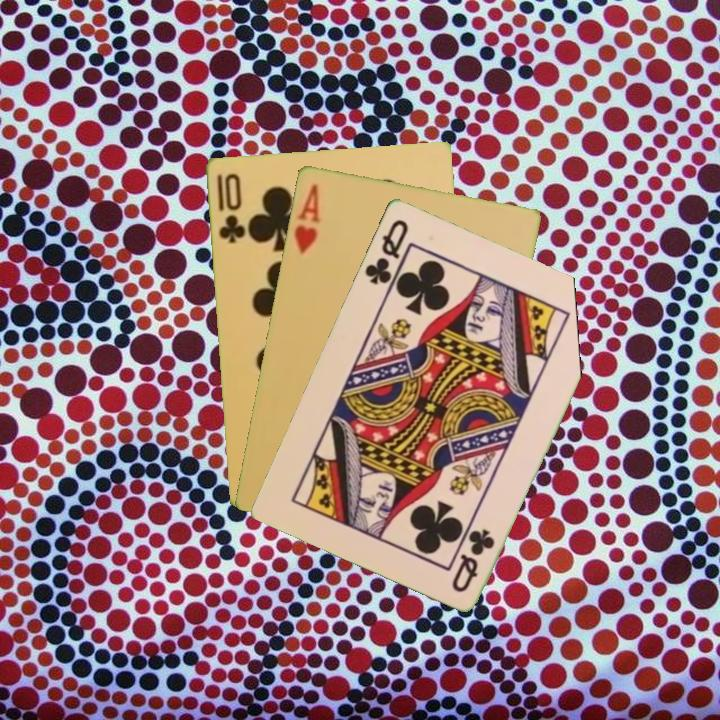10c: (213, 170, 247, 246)
Ah: (290, 180, 323, 256)
Qc: (361, 215, 412, 295), (447, 524, 498, 595)
